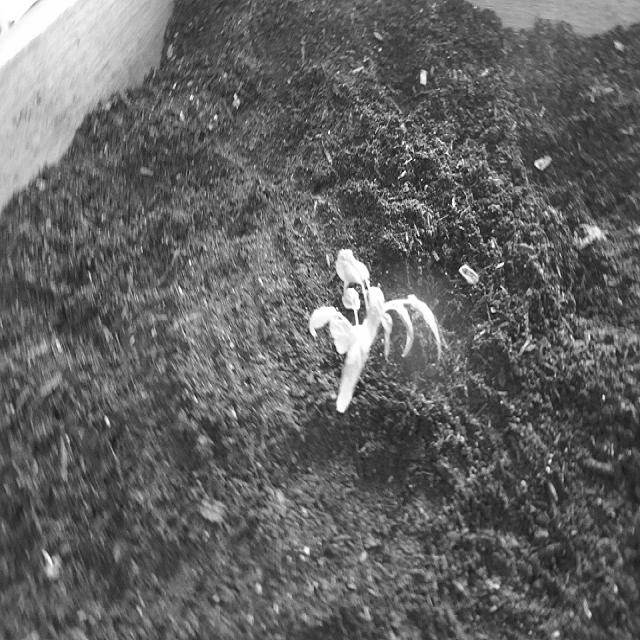Healthy: (296, 218, 455, 442)
